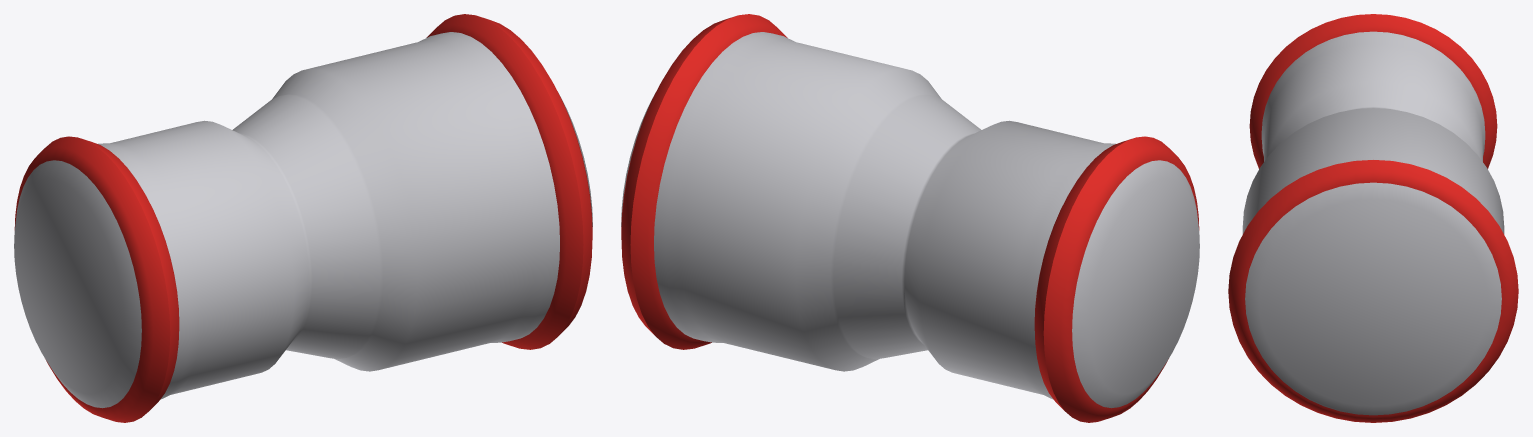
The model's file is fitting_cp_35x28_r.glb.
3 renders of one model, left to right at view 1: azimuth 30°, elevation 25°; view 2: azimuth 150°, elevation 25°; view 3: azimuth 270°, elevation 25°, orthographic. The views are drawn at different scales.
Visible parts, largest first — view 1: муфта, кольцо пресс, кольцо пресс.001; view 2: муфта, кольцо пресс, кольцо пресс.001; view 3: муфта, кольцо пресс.001, кольцо пресс.
Boxes of the visible parts, <box> form: муфта: <box>14,32,592,408</box>; кольцо пресс: <box>14,136,179,422</box>; кольцо пресс.001: <box>426,14,592,349</box>; муфта: <box>621,32,1199,408</box>; кольцо пресс: <box>1034,136,1199,422</box>; кольцо пресс.001: <box>621,14,787,349</box>; муфта: <box>1242,31,1504,415</box>; кольцо пресс.001: <box>1228,160,1518,422</box>; кольцо пресс: <box>1249,14,1497,168</box>.
Size of the model in its own units: 0.074 by 0.0483 by 0.0483.
